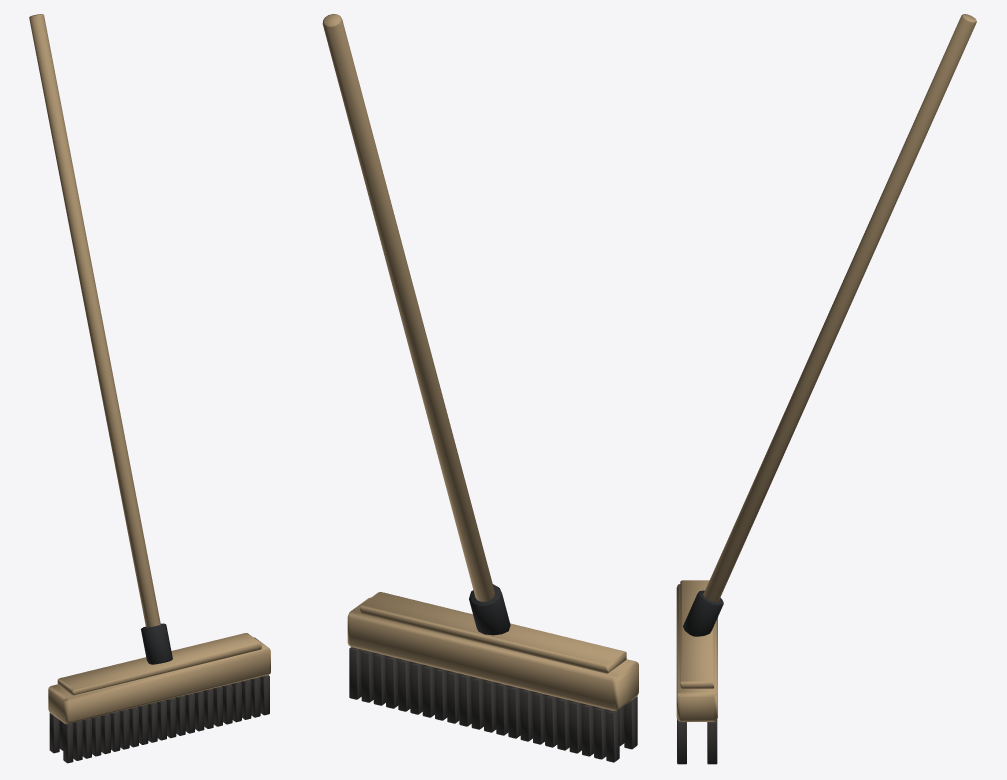
File: asset_074_broom.glb
The picture shows the model from 3 angles, left to right: view 1: azimuth 30°, elevation 25°; view 2: azimuth 150°, elevation 25°; view 3: azimuth 270°, elevation 25°; orthographic projection. The views are drawn at different scales.
Parts seen in each view (by area): view 1: MESH_BroomHandle, MESH_BroomBristles, MESH_BroomBlock, MESH_BroomBlockCap, MESH_BroomFerrule; view 2: MESH_BroomBristles, MESH_BroomHandle, MESH_BroomBlock, MESH_BroomBlockCap, MESH_BroomFerrule; view 3: MESH_BroomHandle, MESH_BroomBlockCap, MESH_BroomBlock, MESH_BroomFerrule, MESH_BroomBristles.
Boxes of the visible parts, <box> form: MESH_BroomHandle: <box>29,14,160,627</box>; MESH_BroomBristles: <box>49,675,269,763</box>; MESH_BroomBlock: <box>48,637,270,723</box>; MESH_BroomBlockCap: <box>57,633,261,695</box>; MESH_BroomFerrule: <box>141,623,172,664</box>; MESH_BroomBristles: <box>349,647,637,762</box>; MESH_BroomHandle: <box>322,14,494,601</box>; MESH_BroomBlock: <box>347,597,638,710</box>; MESH_BroomBlockCap: <box>360,592,626,673</box>; MESH_BroomFerrule: <box>469,584,510,635</box>; MESH_BroomHandle: <box>703,14,976,601</box>; MESH_BroomBlockCap: <box>680,580,714,688</box>; MESH_BroomBlock: <box>676,584,717,721</box>; MESH_BroomFerrule: <box>683,590,723,636</box>; MESH_BroomBristles: <box>677,719,717,764</box>.
Bounding box in the file's own units: 0.48 × 1.39 × 0.5812.
